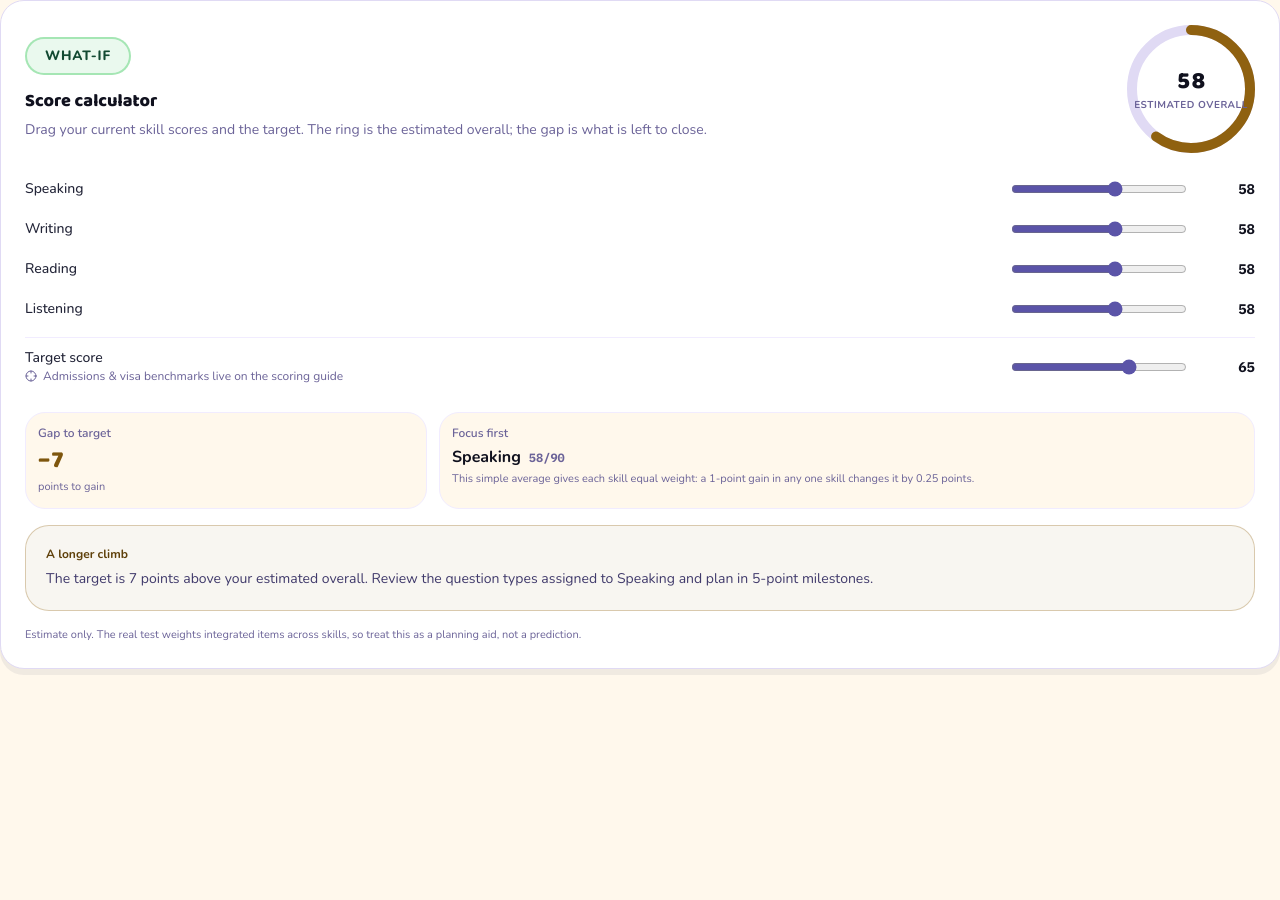
Test: ScoreCalculator › reports the surplus when the target has been met
The width and height of the screenshot is (1280, 900).
Set the slider labelled "Speaking" to "70" at {"x": 1139, "y": 189}, box left=1011, top=181, right=1187, bottom=197
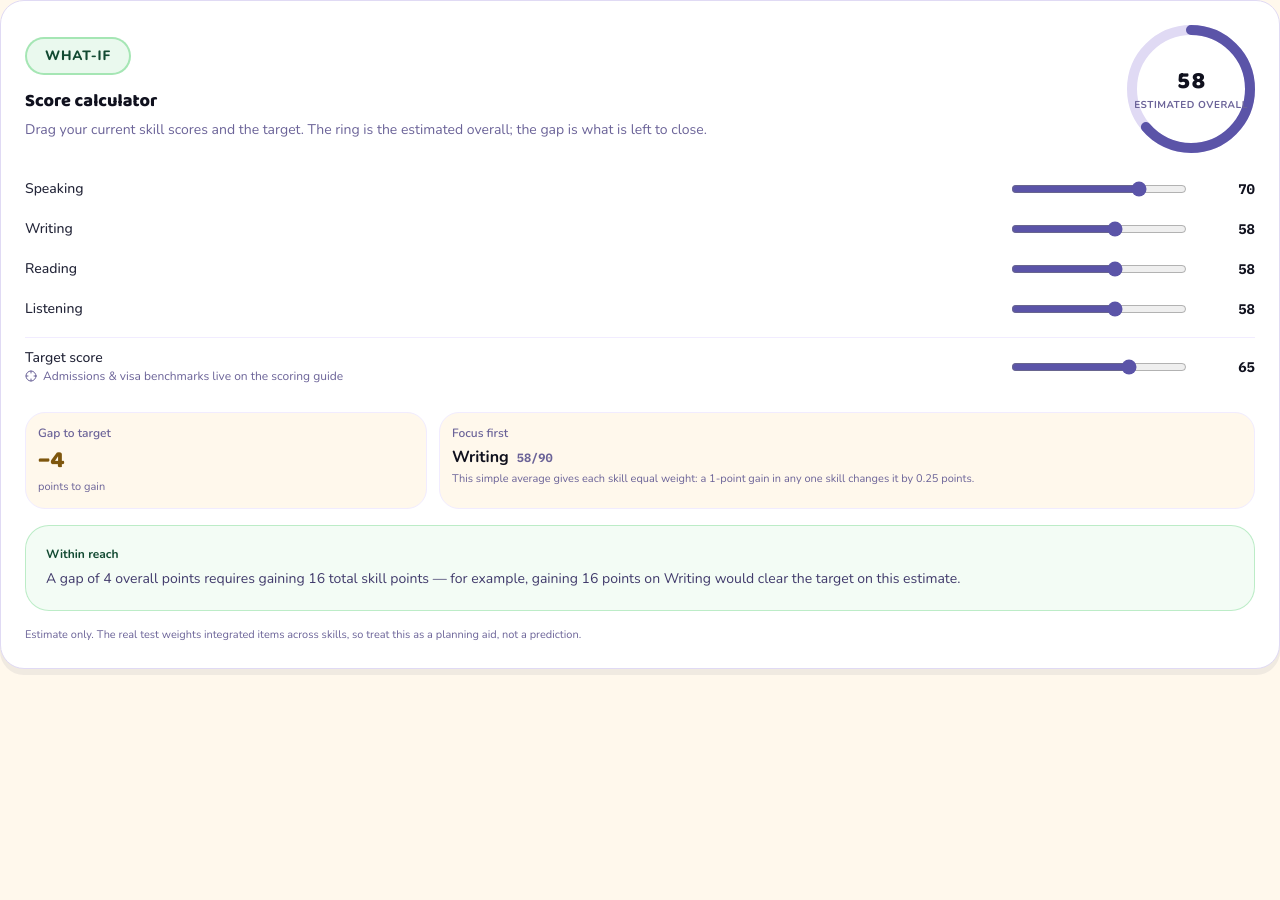
Set the slider labelled "Writing" to "70" at {"x": 1139, "y": 229}, box left=1011, top=221, right=1187, bottom=237
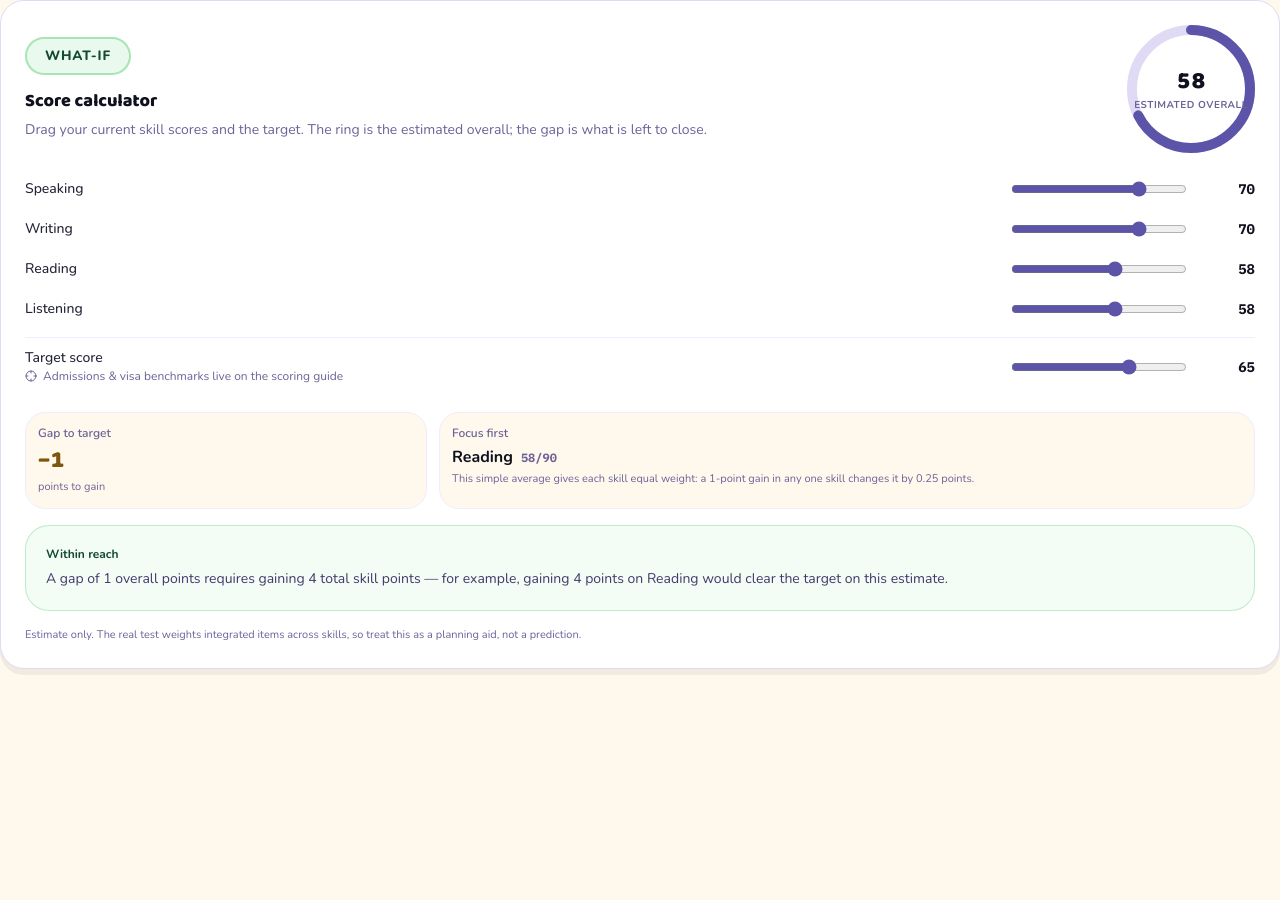
Set the slider labelled "Reading" to "70" at {"x": 1139, "y": 269}, box left=1011, top=261, right=1187, bottom=277
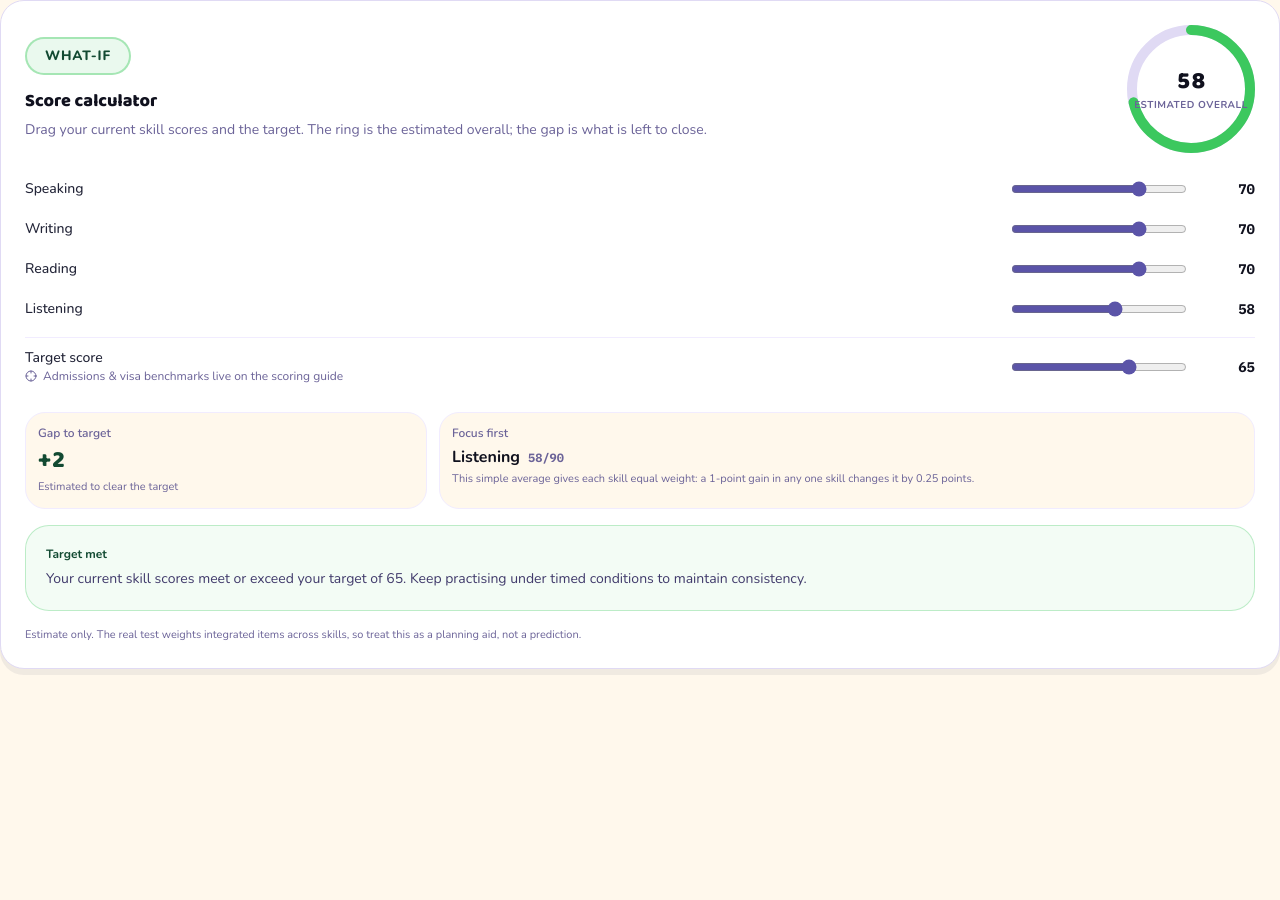
Set the slider labelled "Listening" to "70" at {"x": 1139, "y": 309}, box left=1011, top=301, right=1187, bottom=317
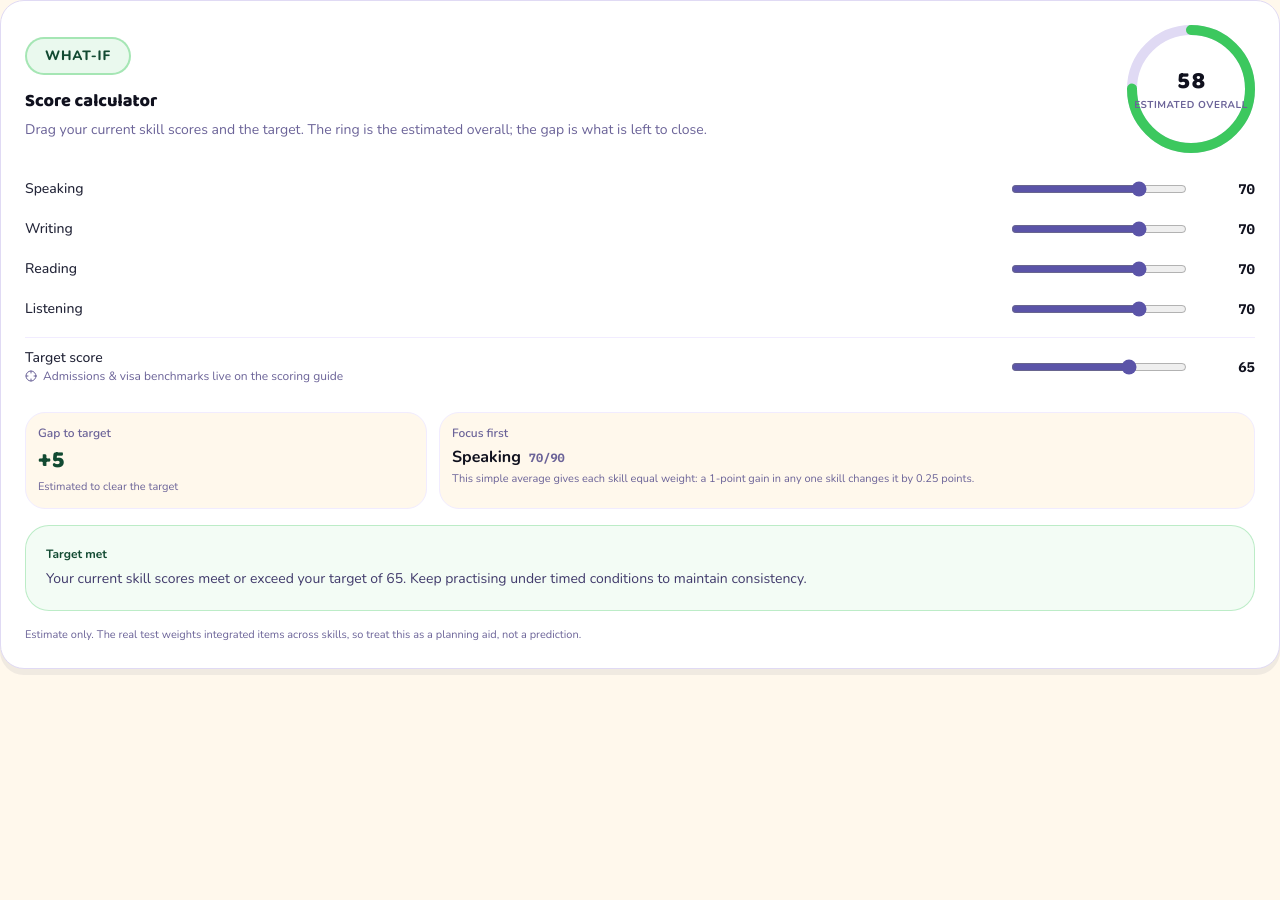
expect the text "+5" is shown: met, box left=38, top=441, right=66, bottom=480
